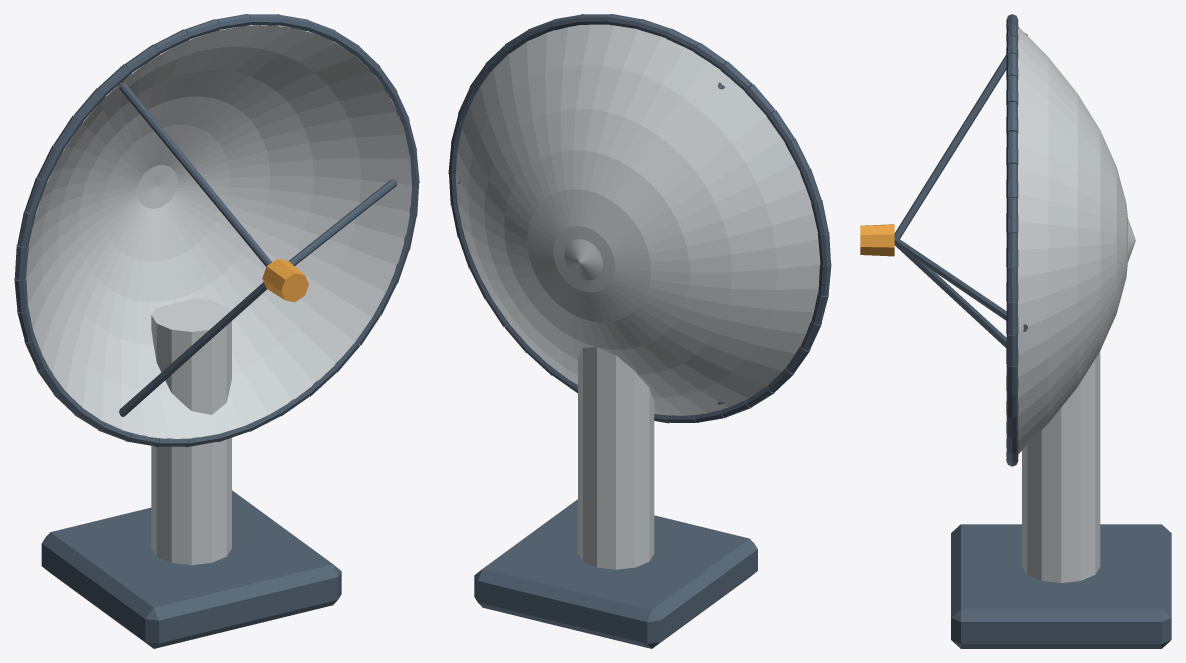
3 renders of one model, left to right at view 1: azimuth 30°, elevation 25°; view 2: azimuth 150°, elevation 25°; view 3: azimuth 270°, elevation 25°, orthographic. The views are drawn at different scales.
Visible parts, largest first — view 1: ME-005 Surface communications dish batched; view 2: ME-005 Surface communications dish batched; view 3: ME-005 Surface communications dish batched.
Part boxes in pixels (x1,y1,x2,y2): ME-005 Surface communications dish batched: [14, 14, 419, 648]; ME-005 Surface communications dish batched: [448, 14, 831, 648]; ME-005 Surface communications dish batched: [860, 14, 1171, 648].
Size of the model in its own units: 1.85 by 2.57 by 1.27.
